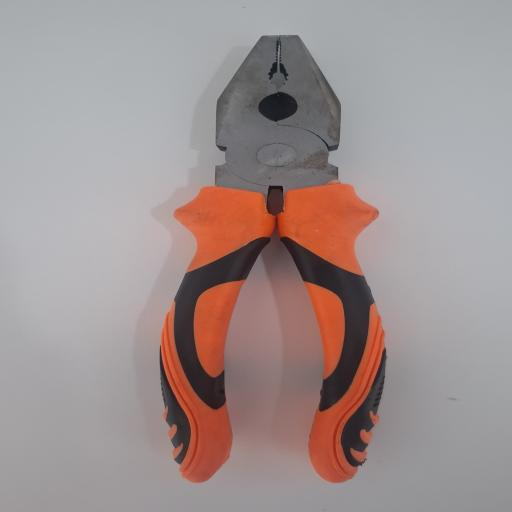alicate: (162, 34, 388, 485)
